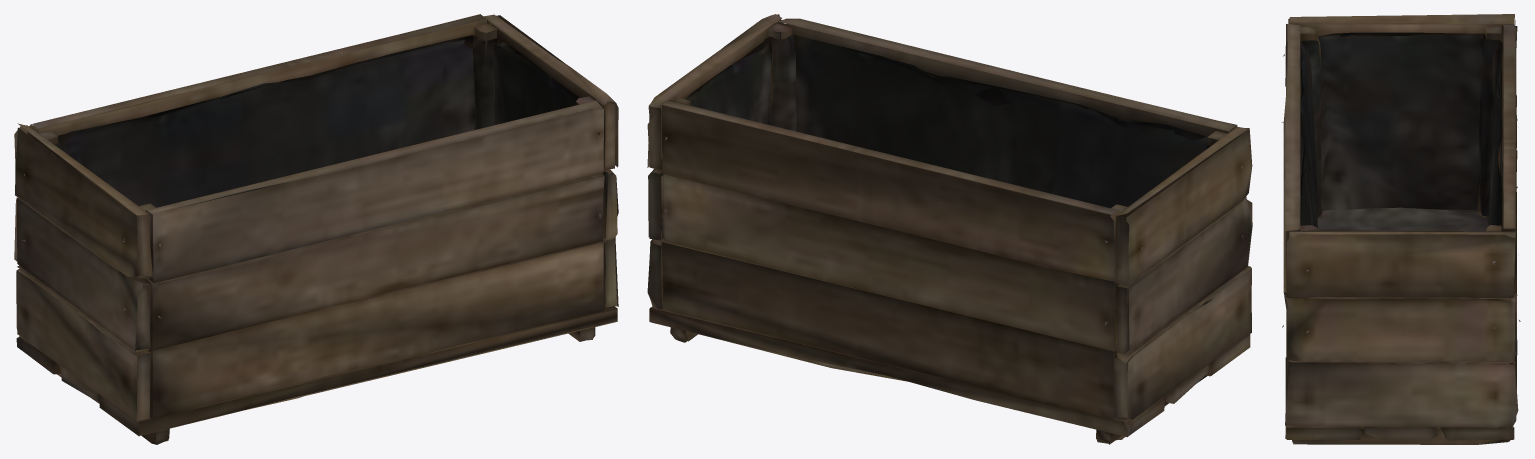
File: planter-low.glb
3 views of the same model, side by side, from view 1: azimuth 30°, elevation 25°; view 2: azimuth 150°, elevation 25°; view 3: azimuth 270°, elevation 25° (orthographic). The views are drawn at different scales.
Parts seen in each view (by area): view 1: planter_box_01 baked; view 2: planter_box_01 baked; view 3: planter_box_01 baked.
Part boxes in pixels (<box>): planter_box_01 baked: <box>14,14,618,444</box>; planter_box_01 baked: <box>647,14,1252,444</box>; planter_box_01 baked: <box>1281,14,1520,444</box>.
Size of the model in its own units: 0.9081 by 0.425 by 0.4128.
Materials: 1 (1 with a texture image).
